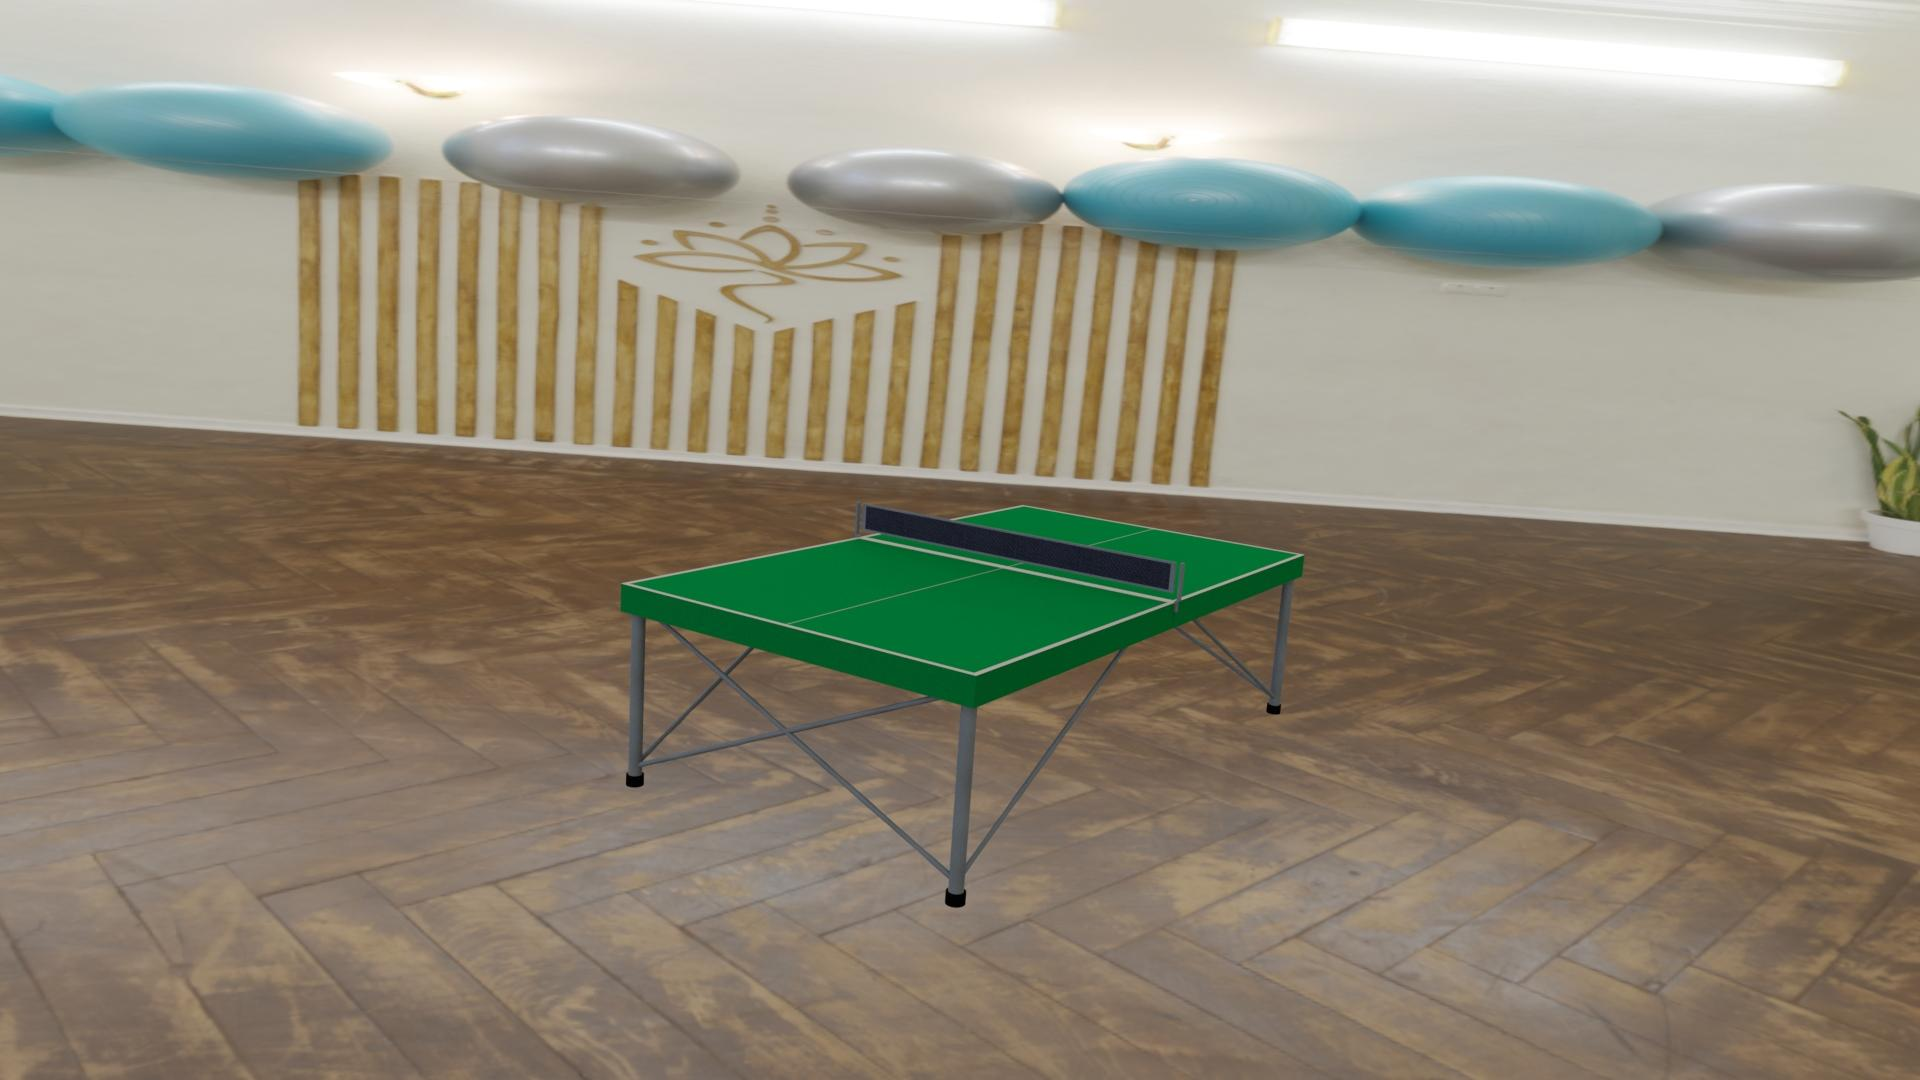table: (629, 506, 1299, 673)
